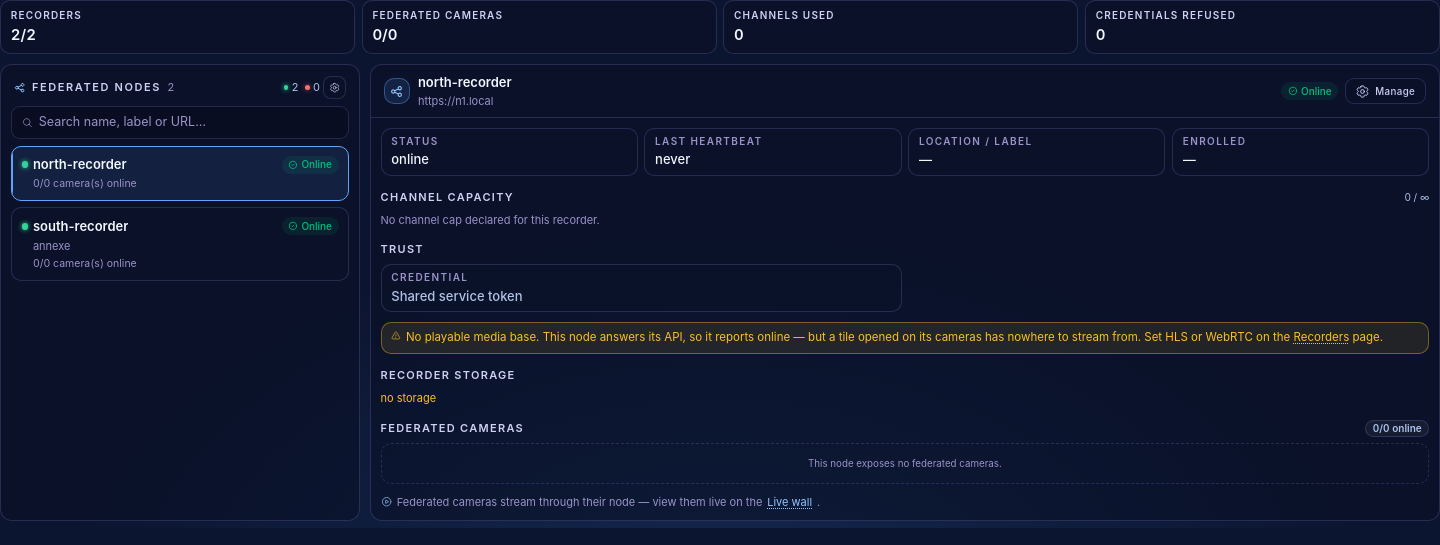
Scenario: which node is shown › follows the filter to the first match while nothing has been chosen
Check: the heading "north-recorder" is shown, box [418, 73, 512, 92]
Type "annexe" into the field with placeholder "Search name, label or URL…" at (189, 122), box [39, 113, 339, 132]
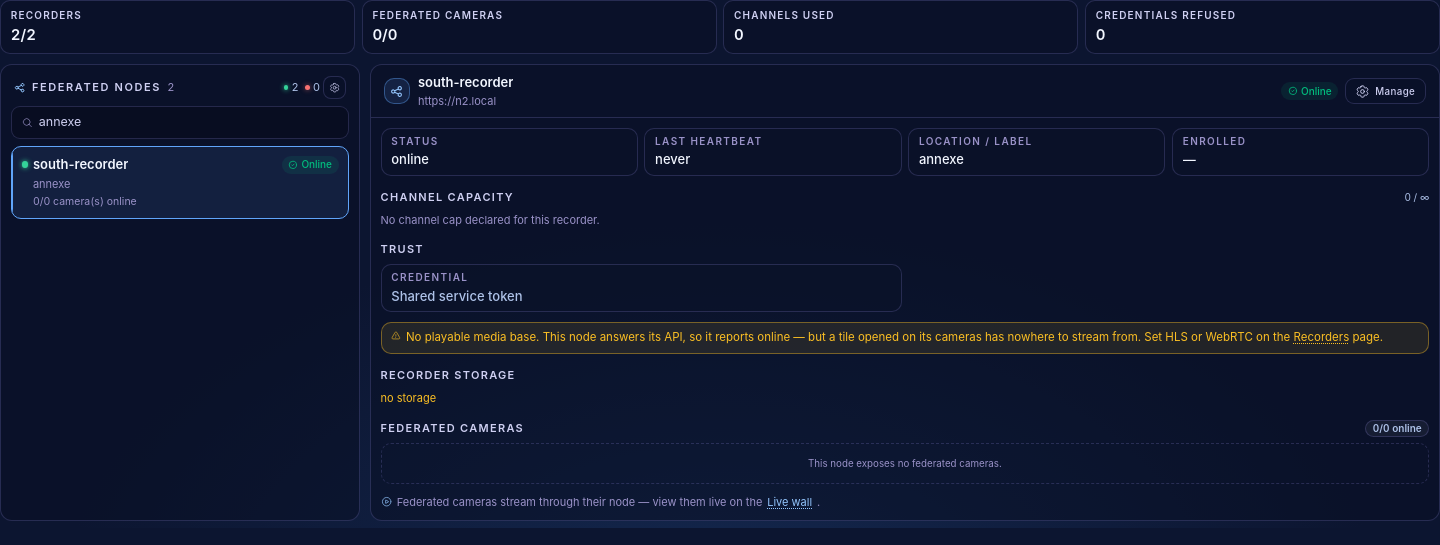
Check: the heading "south-recorder" is shown, box [418, 73, 513, 92]
